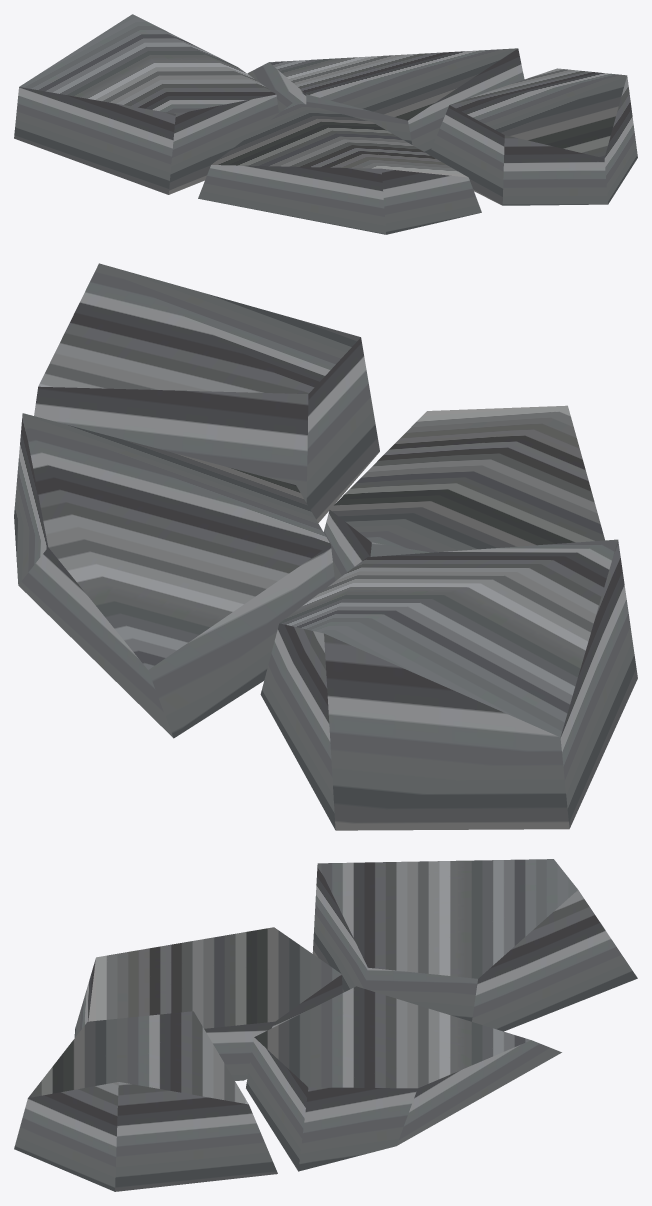
Rendered from rock_jclump3_hdtex.glb.
The picture shows the model from 3 angles, top to bottom: view 1: azimuth 30°, elevation 25°; view 2: azimuth 150°, elevation 25°; view 3: azimuth 270°, elevation 25°; orthographic projection. The views are drawn at different scales.
Parts seen in each view (by area): view 1: Rock_JClump3; view 2: Rock_JClump3; view 3: Rock_JClump3.
Boxes of the visible parts, x1,y1,x2,y2 form: Rock_JClump3: (14, 14, 637, 234); Rock_JClump3: (14, 263, 637, 830); Rock_JClump3: (14, 859, 637, 1191).
Size of the model in its own units: 24.08 by 4.41 by 23.26.
Materials: 1 (1 with a texture image).
